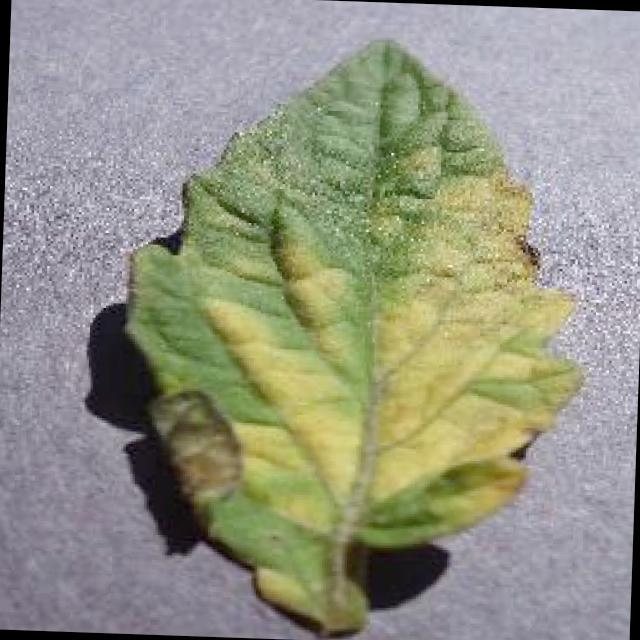Tomato mold leaf: (108, 24, 597, 640)
